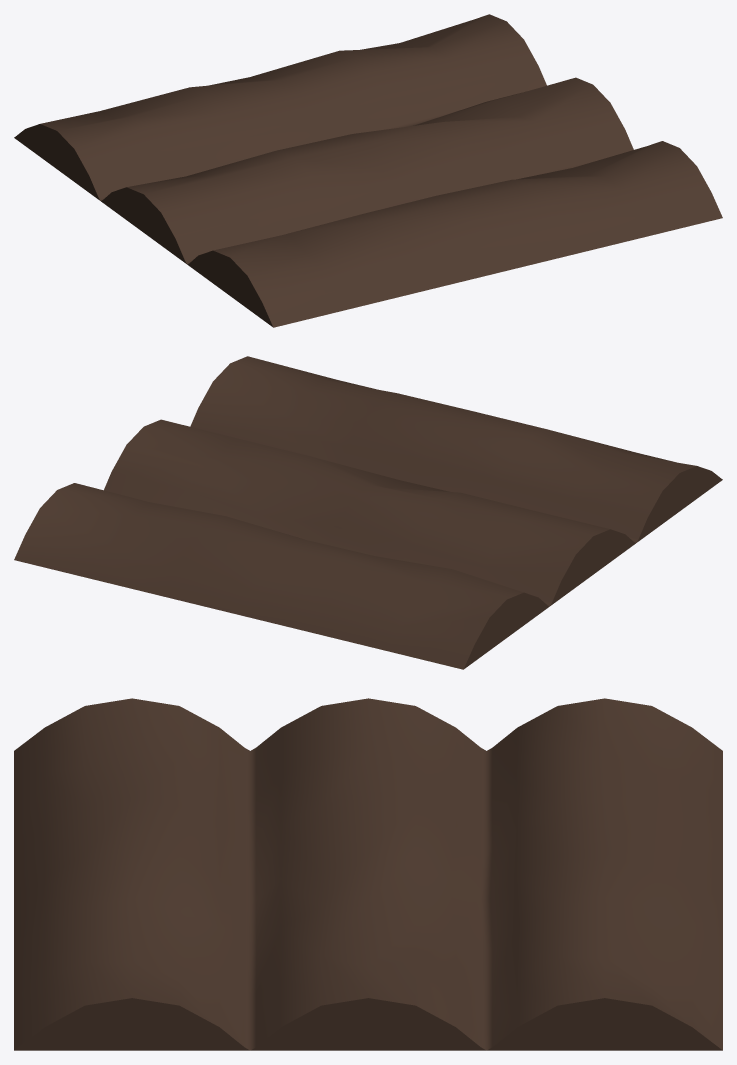
Rendered from AkkerTileTop.fbx.
3 views of the same model, one above another, from view 1: azimuth 30°, elevation 25°; view 2: azimuth 150°, elevation 25°; view 3: azimuth 270°, elevation 25° (orthographic). The views are drawn at different scales.
Visible parts, largest first — view 1: Cube.002; view 2: Cube.002; view 3: Cube.002.
Part boxes in pixels (x1,y1,x2,y2): Cube.002: (14, 14, 722, 327); Cube.002: (14, 356, 722, 669); Cube.002: (14, 698, 722, 1050).
Size of the model in its own units: 4 by 0.3318 by 4.
